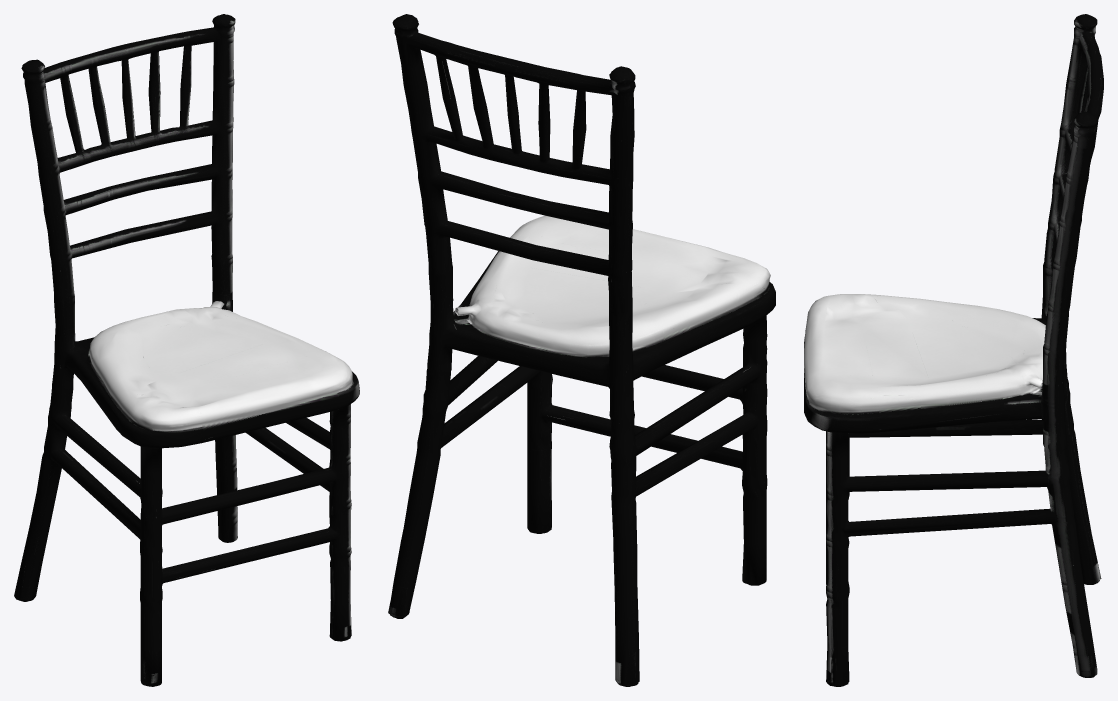
Rendered from Chair_Black_with_seat_Pad_0404011633_texture.glb.
3 renders of one model, left to right at view 1: azimuth 30°, elevation 25°; view 2: azimuth 150°, elevation 25°; view 3: azimuth 270°, elevation 25°, orthographic. The views are drawn at different scales.
Parts seen in each view (by area): view 1: Mesh_0.001; view 2: Mesh_0.001; view 3: Mesh_0.001.
Part boxes in pixels (x1,y1,x2,y2): Mesh_0.001: (14, 14, 359, 686); Mesh_0.001: (388, 14, 775, 686); Mesh_0.001: (804, 14, 1103, 686).
Size of the model in its own units: 0.3577 by 0.8128 by 0.3879.
Materials: 1 (1 with a texture image).
